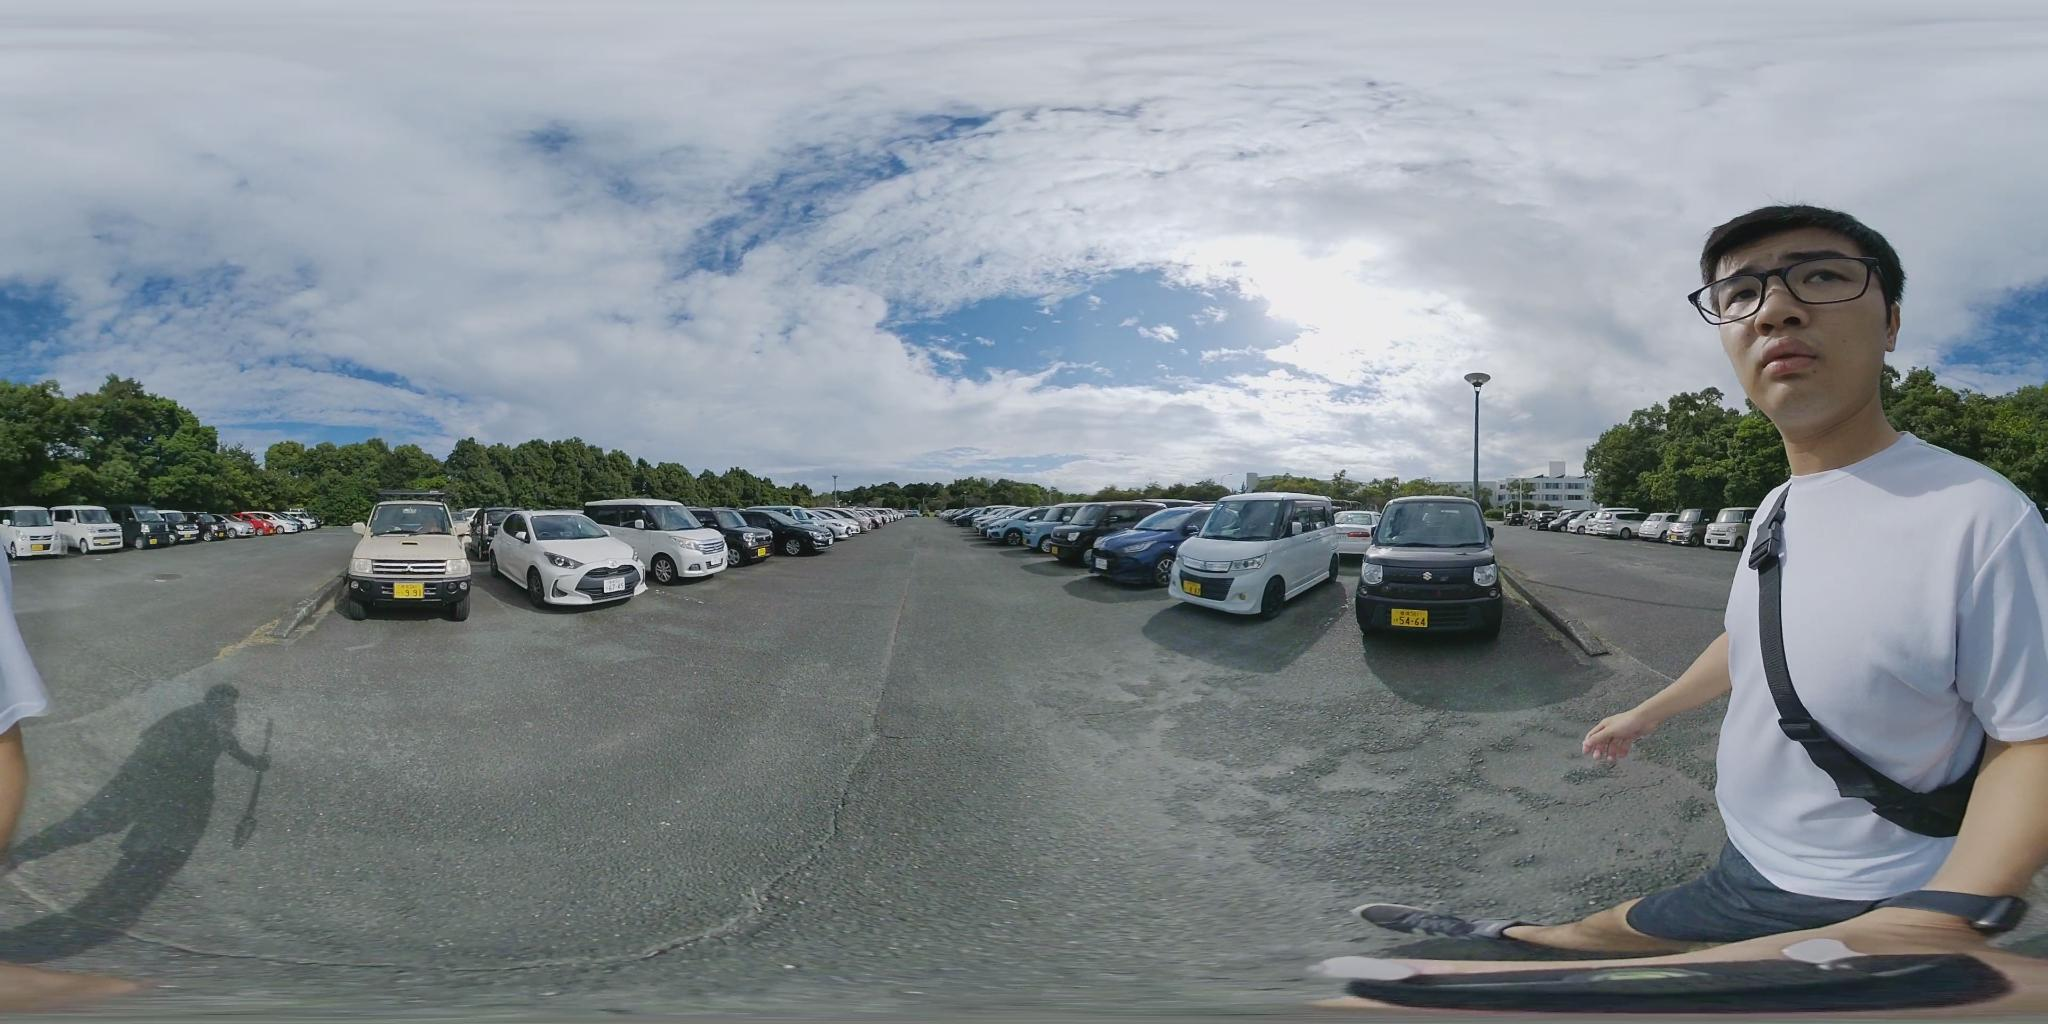car: (1161, 491, 1343, 616), (1356, 500, 1505, 641), (482, 511, 645, 609), (347, 502, 468, 628), (577, 503, 741, 584), (1071, 504, 1207, 580), (1032, 502, 1182, 559), (4, 508, 128, 558), (701, 511, 798, 559), (733, 509, 832, 556), (982, 508, 1067, 550), (970, 505, 1044, 542), (140, 511, 206, 543), (1681, 516, 1742, 547), (1332, 512, 1382, 549), (1639, 516, 1693, 543), (1582, 512, 1637, 538), (1707, 516, 1749, 550), (235, 515, 289, 538), (278, 515, 316, 534)
